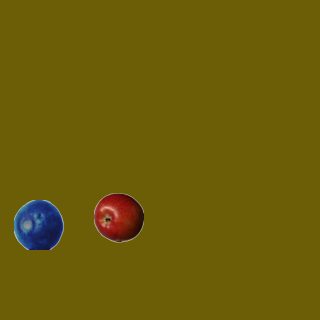Apple Braeburn: (93, 192, 143, 242)
Huckleberry: (13, 199, 63, 249)
